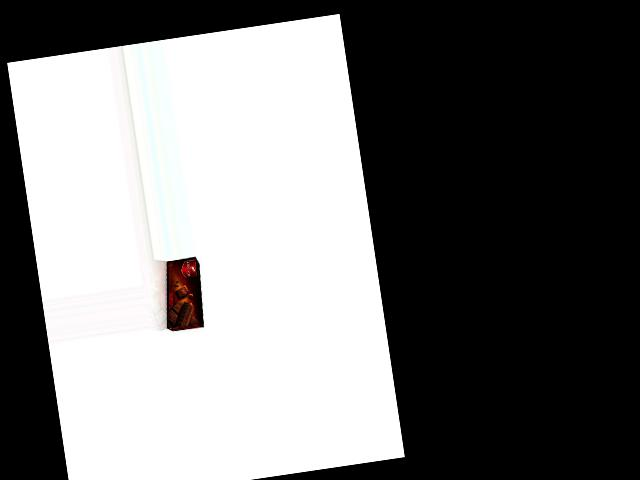chocolate: (156, 256, 208, 331)
